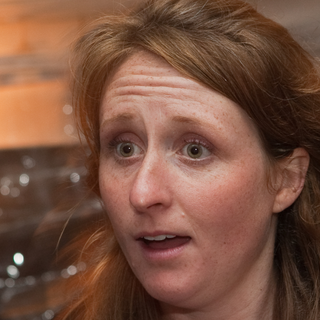eye: (174, 138, 219, 165), (106, 136, 146, 163)
